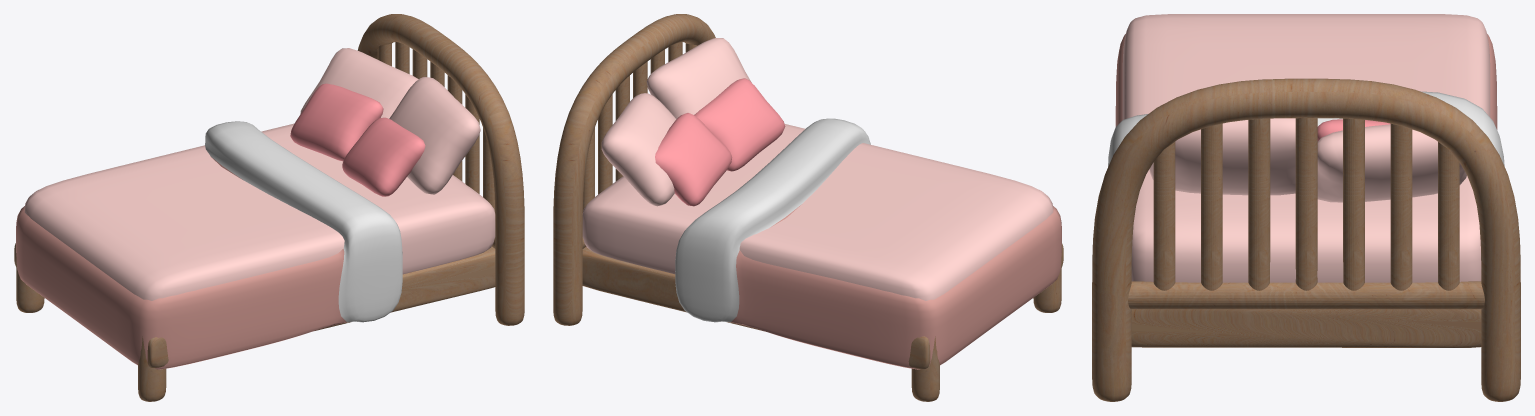
File: Bed_One.fbx
The picture shows the model from 3 angles, left to right: view 1: azimuth 30°, elevation 25°; view 2: azimuth 150°, elevation 25°; view 3: azimuth 270°, elevation 25°; orthographic projection. The views are drawn at different scales.
Visible parts, largest first — view 1: Mattress, Blanket, Frame_CurveLegs, Pillow2, Pillow3, Bottom_Frame, Pillow4, Pillow1, Frame_Poles; view 2: Mattress, Blanket, Frame_CurveLegs, Pillow1, Pillow2, Pillow4, Pillow3, Bottom_Frame, Frame_Poles; view 3: Mattress, Frame_CurveLegs, Frame_Poles, Bottom_Frame, Frame_Cylinder, Pillow2, Pillow1, Blanket, Pillow3.
Boxes of the visible parts, left/top/right/bottom form: Mattress: left=24, top=123, right=495, bottom=300; Blanket: left=16, top=121, right=402, bottom=369; Frame_CurveLegs: left=16, top=14, right=524, bottom=401; Pillow2: left=389, top=77, right=480, bottom=194; Pillow3: left=290, top=83, right=383, bottom=161; Bottom_Frame: left=14, top=243, right=495, bottom=367; Pillow4: left=342, top=117, right=425, bottom=196; Pillow1: left=300, top=48, right=418, bottom=118; Frame_Poles: left=377, top=41, right=494, bottom=211; Mattress: left=582, top=124, right=1053, bottom=300; Blanket: left=675, top=118, right=1061, bottom=369; Frame_CurveLegs: left=553, top=14, right=1061, bottom=401; Pillow1: left=601, top=93, right=676, bottom=206; Pillow2: left=646, top=38, right=750, bottom=118; Pillow4: left=694, top=78, right=785, bottom=171; Pillow3: left=655, top=113, right=731, bottom=206; Bottom_Frame: left=582, top=243, right=1063, bottom=369; Frame_Poles: left=583, top=41, right=697, bottom=211; Mattress: left=1122, top=14, right=1490, bottom=282; Frame_CurveLegs: left=1092, top=78, right=1520, bottom=401; Frame_Poles: left=1153, top=118, right=1459, bottom=290; Bottom_Frame: left=1131, top=309, right=1481, bottom=347; Frame_Cylinder: left=1128, top=281, right=1484, bottom=309; Pillow2: left=1149, top=118, right=1295, bottom=195; Pillow1: left=1317, top=124, right=1466, bottom=202; Blanket: left=1108, top=34, right=1504, bottom=166; Pillow3: left=1317, top=119, right=1390, bottom=141.
Bounding box in the file's own units: 526 × 386 × 316.
Materials: 5 (1 with a texture image).
